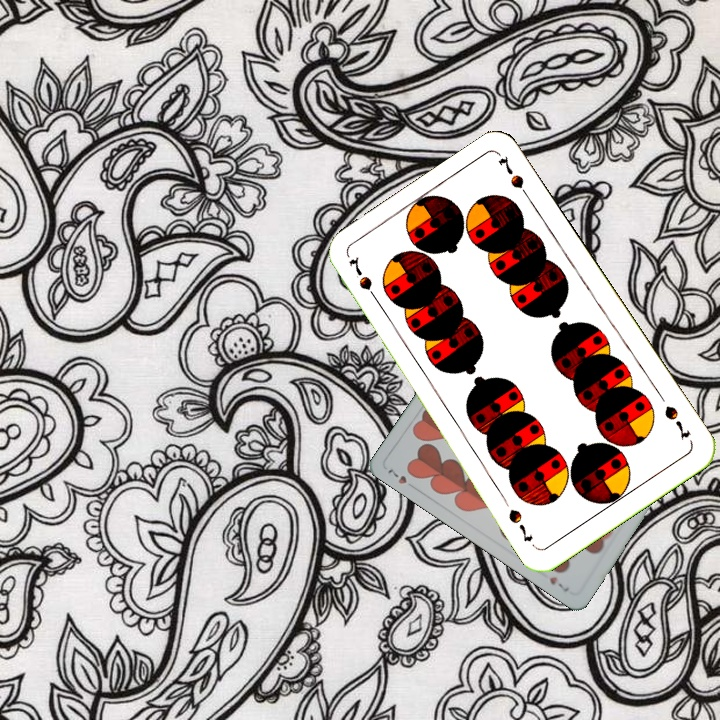H7: (383, 464, 419, 492)
S7: (344, 253, 382, 306), (660, 401, 693, 442)
